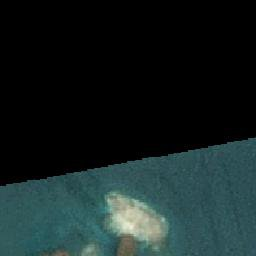debris: (114, 235, 135, 256), (34, 245, 70, 256)
